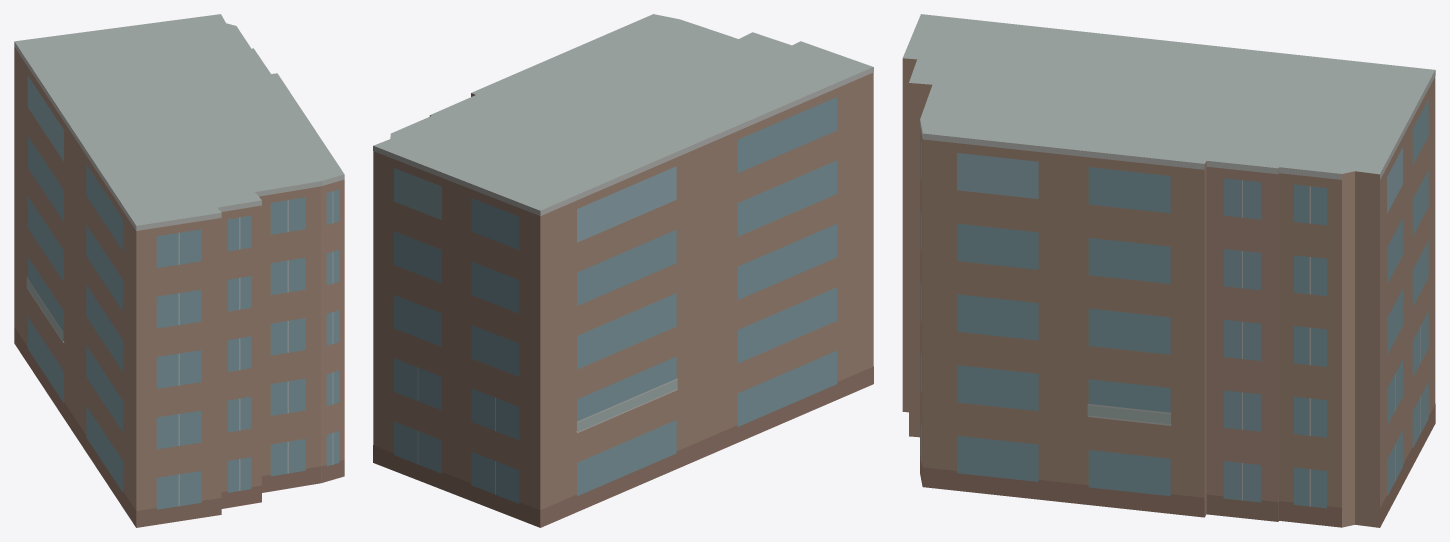
File: survey-upis-32740162.glb
3 views of the same model, side by side, from view 1: azimuth 30°, elevation 25°; view 2: azimuth 150°, elevation 25°; view 3: azimuth 270°, elevation 25° (orthographic). The views are drawn at different scales.
Visible parts, largest first — view 1: survey-upis-32740162.tmp; view 2: survey-upis-32740162.tmp; view 3: survey-upis-32740162.tmp.
Boxes of the visible parts, box(x1,y1,x2,y2) form: survey-upis-32740162.tmp: box(14, 14, 344, 527); survey-upis-32740162.tmp: box(373, 14, 873, 527); survey-upis-32740162.tmp: box(902, 14, 1435, 527).
Size of the model in its own units: 14.11 by 14.5 by 19.82.
